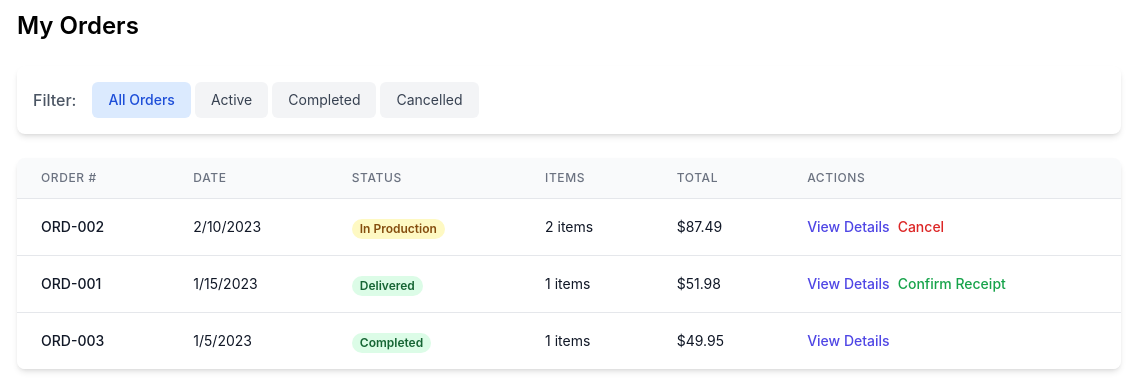
Test: OrdersList Component › filters orders based on selected filter
expect the text "ORD-001" is shown: met, box top-left (41, 275), bottom-right (101, 292)
Click on "Active" filter
Click the button "Active" at (232, 100), box top-left (195, 82), bottom-right (268, 118)
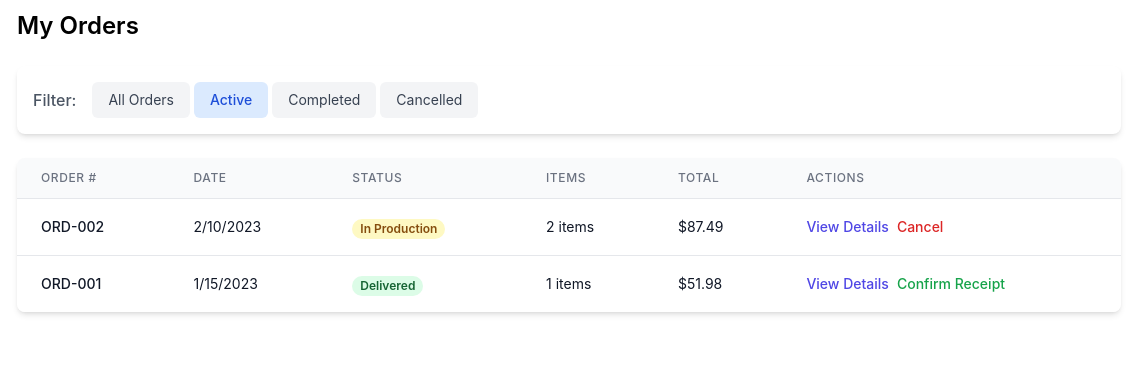
expect the text "ORD-002" is shown: met, box top-left (41, 218), bottom-right (104, 235)
expect the text "ORD-003" is gone: met
Click on "Completed" filter
Click the button "Completed" at (324, 100), box top-left (272, 82), bottom-right (376, 118)
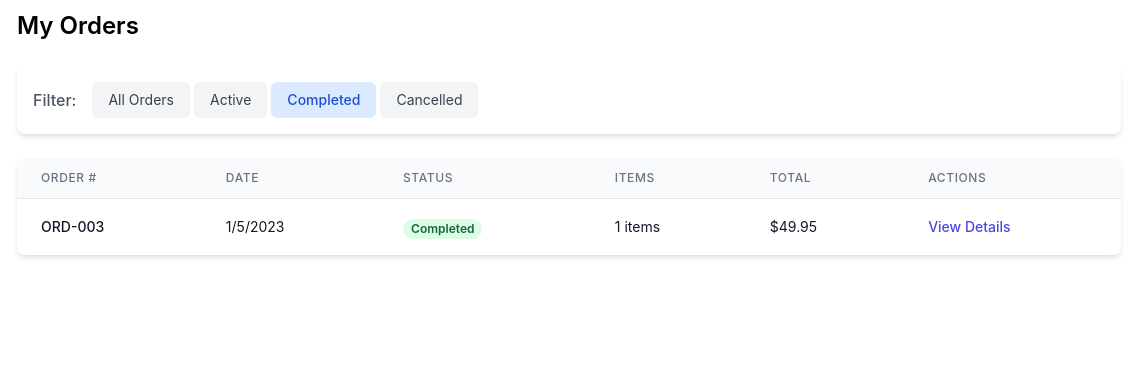
expect the text "ORD-001" is gone: met
expect the text "ORD-002" is gone: met
expect the text "ORD-003" is shown: met, box top-left (41, 218), bottom-right (104, 235)
